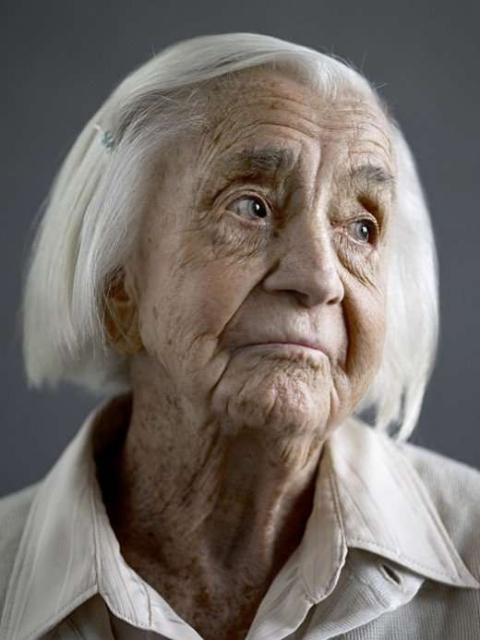chin: (266, 350, 306, 376), (257, 392, 281, 428)
crows_feet: (188, 198, 222, 246)
forehead: (255, 98, 314, 144), (343, 116, 387, 162), (202, 114, 236, 152)
frown_line: (305, 155, 323, 209)
gummy_smile: (228, 266, 272, 324), (332, 285, 356, 355)
sad_smile: (320, 371, 344, 427), (204, 352, 230, 400)
